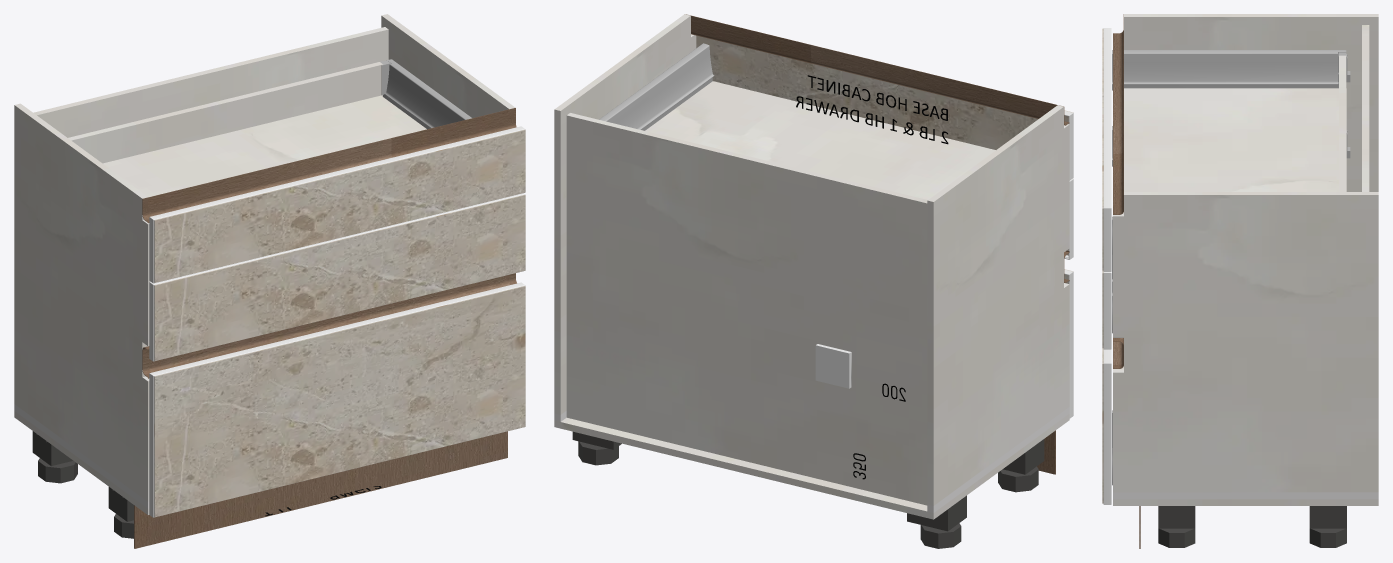
The model's file is BHC2EL1EH_CJ (H720xW900xD560).glb.
3 views of the same model, side by side, from view 1: azimuth 30°, elevation 25°; view 2: azimuth 150°, elevation 25°; view 3: azimuth 270°, elevation 25° (orthographic). The views are drawn at different scales.
Size of what is drawn, in the model's own units: 0.9 by 0.82 by 0.5809.
11 materials, 3 textured.
